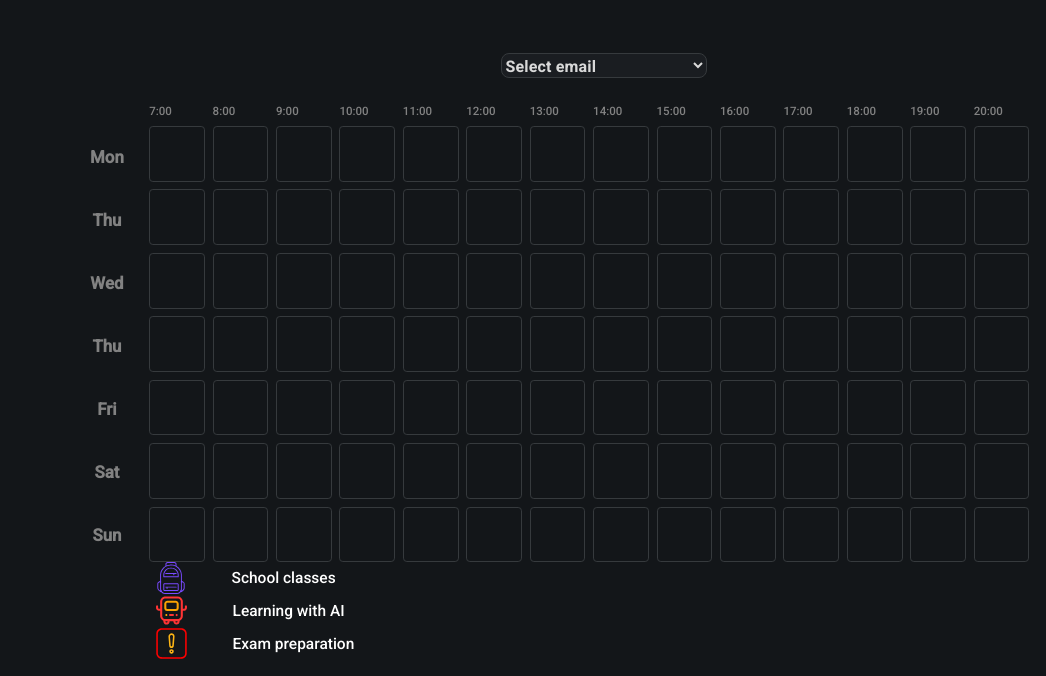
Test: Schedule › closes popup when Escape key is pressed
This screenshot has width=1046, height=676.
Click the element with test id "schedule-rect-0": {"x": 177, "y": 154} [149,126,205,182]
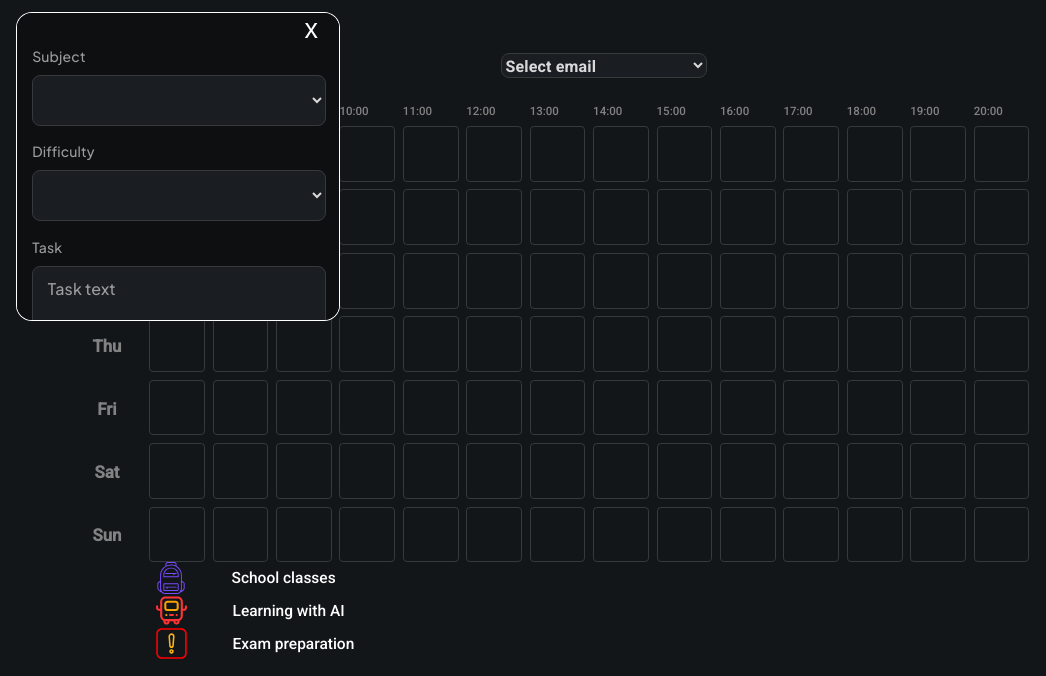
Now the dropdown labelled "Subject" is shown, box [33,76,325,125]
Press Escape
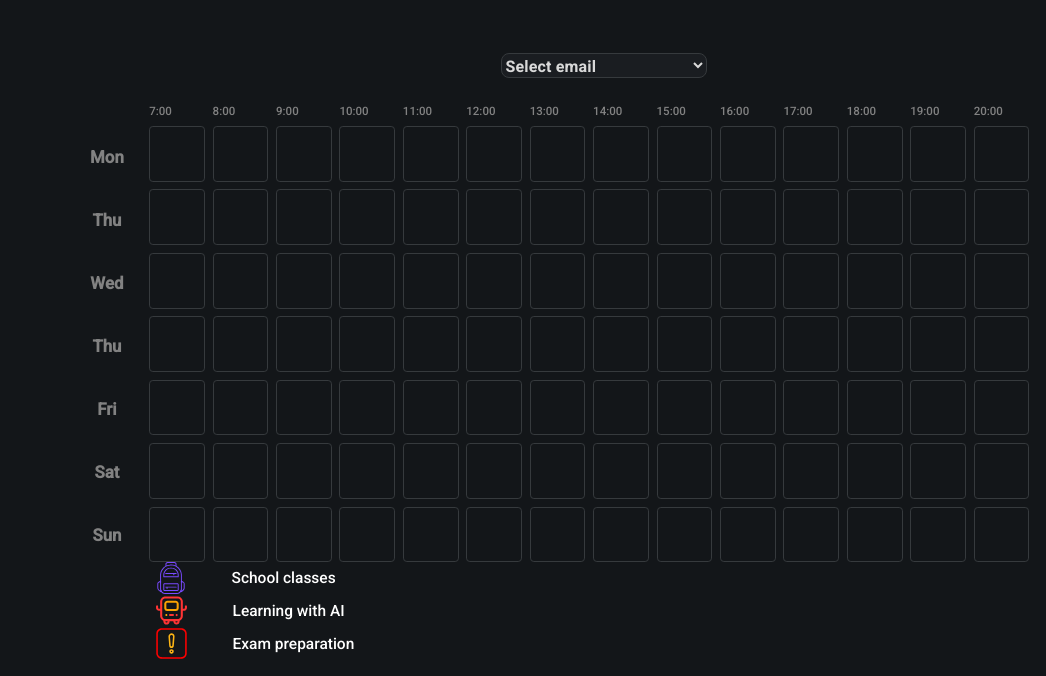
Now the label labelled "Subject" is gone
